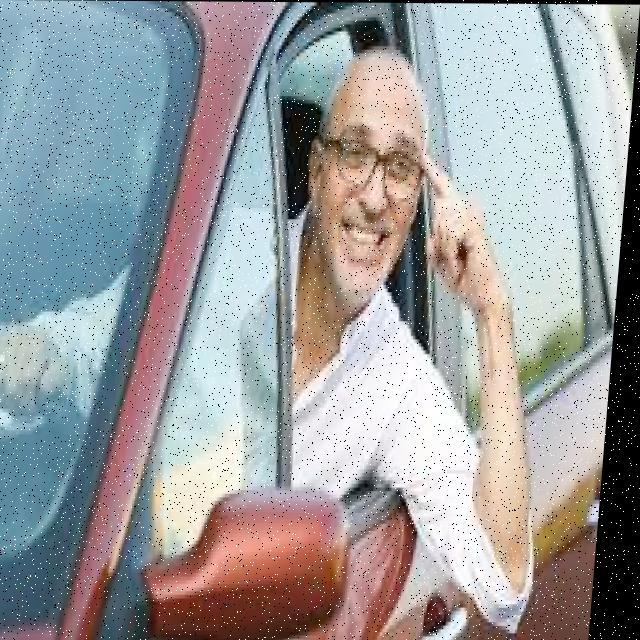noSeatbelt: (195, 217, 442, 500)
